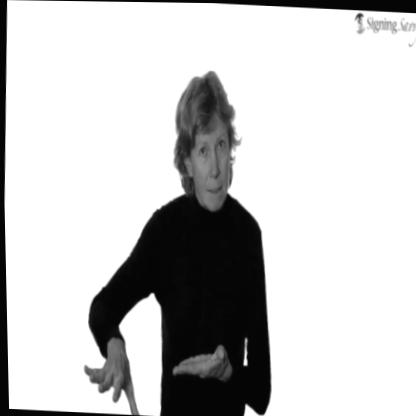Expensive: (78, 315, 230, 416)
